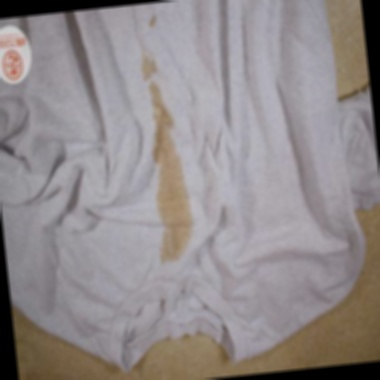coffee: (155, 158, 193, 260), (149, 87, 176, 158)
